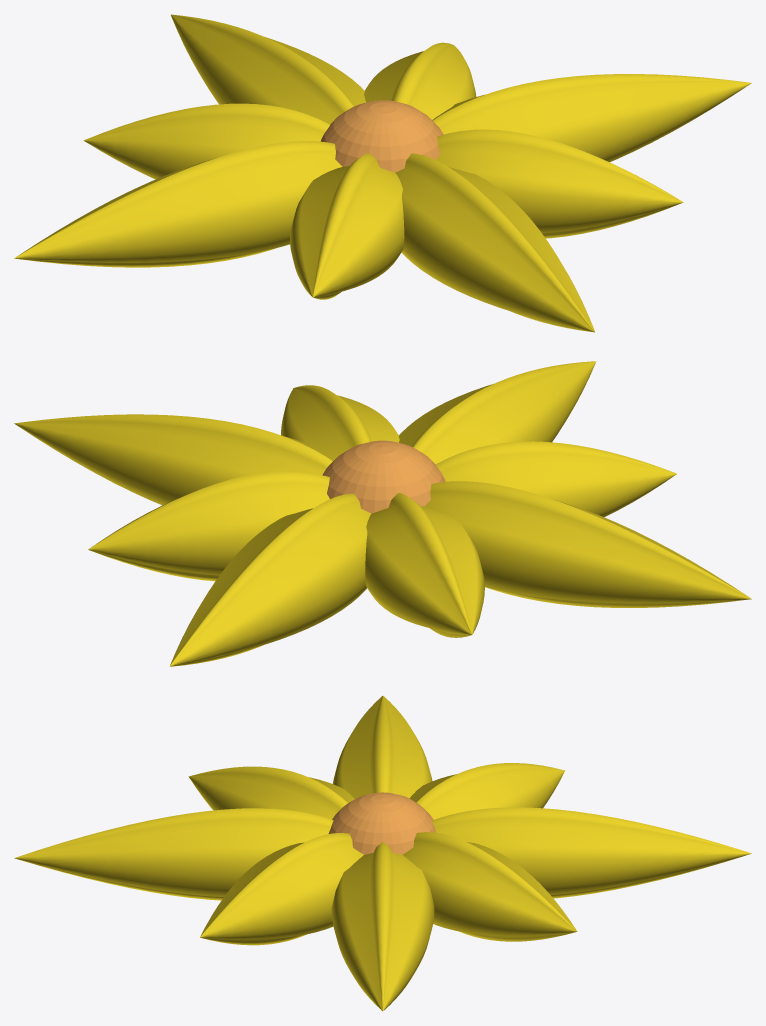
File: own_obj 1.fbx
3 renders of one model, top to bottom at view 1: azimuth 30°, elevation 25°; view 2: azimuth 150°, elevation 25°; view 3: azimuth 270°, elevation 25°, orthographic. The views are drawn at different scales.
Parts seen in each view (by area): view 1: NurbsPath, Sphere; view 2: NurbsPath, Sphere; view 3: NurbsPath, Sphere.
Boxes of the visible parts, bbox=[...] form: NurbsPath: bbox=[14, 14, 751, 332]; Sphere: bbox=[320, 100, 443, 172]; NurbsPath: bbox=[14, 361, 751, 666]; Sphere: bbox=[322, 440, 445, 513]; NurbsPath: bbox=[14, 696, 751, 1011]; Sphere: bbox=[328, 792, 436, 854].
Size of the model in its own units: 39.1 by 6.52 by 39.08.
